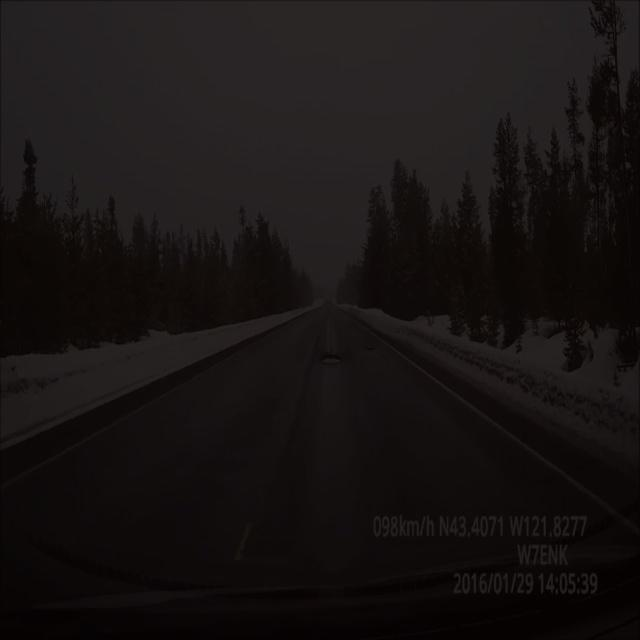Pothole: (315, 350, 349, 374)
